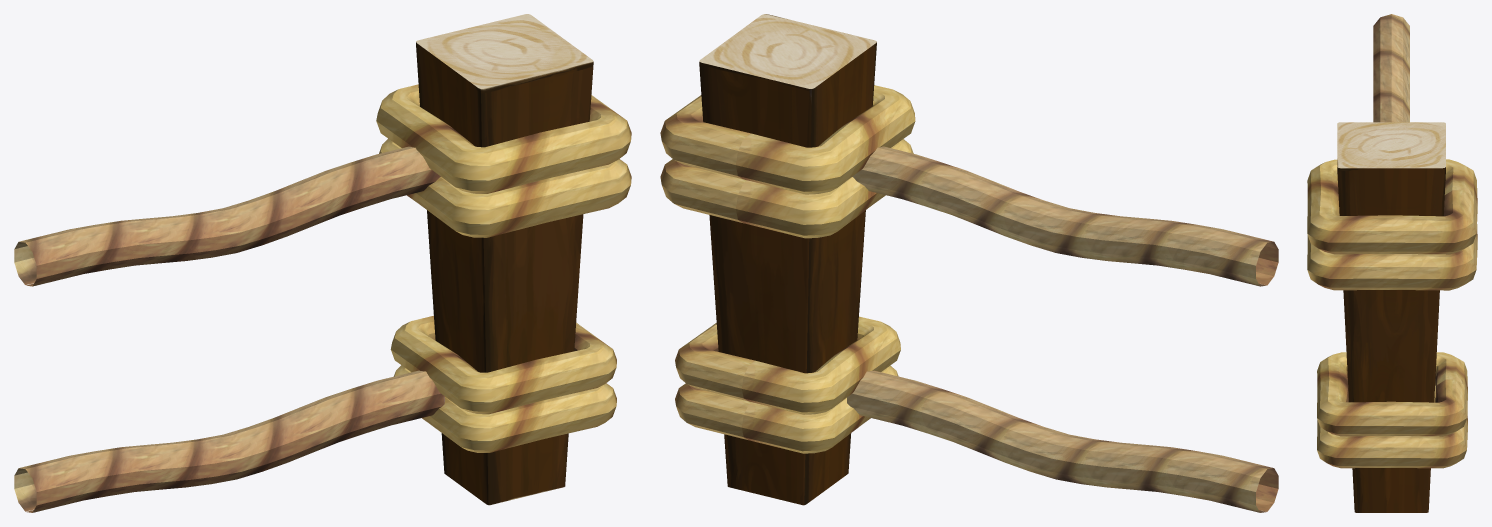
The model's file is Bridge_Rope.fbx.
The picture shows the model from 3 angles, left to right: view 1: azimuth 30°, elevation 25°; view 2: azimuth 150°, elevation 25°; view 3: azimuth 270°, elevation 25°; orthographic projection. The views are drawn at different scales.
Parts seen in each view (by area): view 1: pCube6, pCylinder3; view 2: pCube6, pCylinder3; view 3: pCube6, pCylinder3.
Part boxes in pixels (x1,y1,x2,y2): pCube6: (376,14,631,505); pCylinder3: (14,146,444,512); pCube6: (660,14,915,505); pCylinder3: (847,146,1278,512); pCube6: (1307,122,1477,512); pCylinder3: (1373,14,1409,122).
Bounding box in the file's own units: 445 × 320 × 141.
2 materials, 2 textured.
